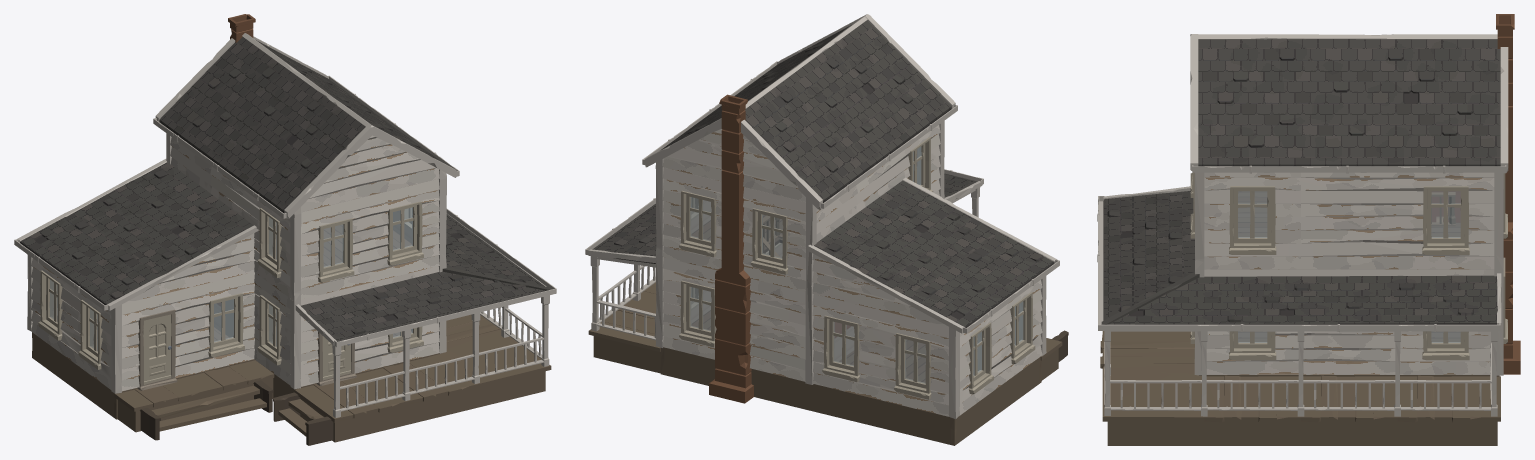
The model's file is sc-farmhouse.glb.
3 renders of one model, left to right at view 1: azimuth 30°, elevation 25°; view 2: azimuth 150°, elevation 25°; view 3: azimuth 270°, elevation 25°, orthographic. The views are drawn at different scales.
Visible parts, largest first — view 1: SM_Bld_Farmhouse_01, SM_Bld_Farmhouse_01_Glass, SM_Bld_Farmhouse_01_Door_02, SM_Bld_Farmhouse_01_Door_01; view 2: SM_Bld_Farmhouse_01, SM_Bld_Farmhouse_01_Glass; view 3: SM_Bld_Farmhouse_01, SM_Bld_Farmhouse_01_Glass.
Part boxes in pixels (x1,y1,x2,y2): SM_Bld_Farmhouse_01: (14,14,556,445); SM_Bld_Farmhouse_01_Glass: (49,207,412,351); SM_Bld_Farmhouse_01_Door_02: (143,314,171,384); SM_Bld_Farmhouse_01_Door_01: (322,336,350,379); SM_Bld_Farmhouse_01: (585,14,1068,445); SM_Bld_Farmhouse_01_Glass: (690,147,1023,383); SM_Bld_Farmhouse_01: (1097,14,1520,445); SM_Bld_Farmhouse_01_Glass: (1238,191,1460,342).
Bounding box in the file's own units: 18 × 13.14 × 14.65.
2 materials, 1 textured.
